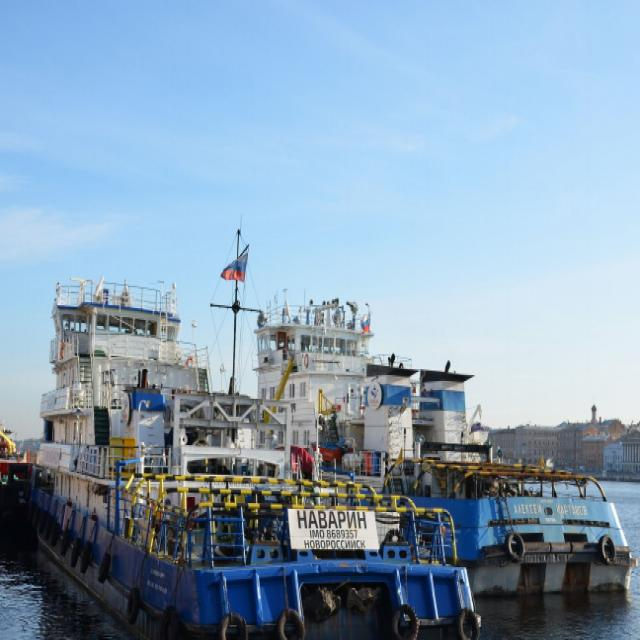tugboat: (19, 275, 485, 640)
